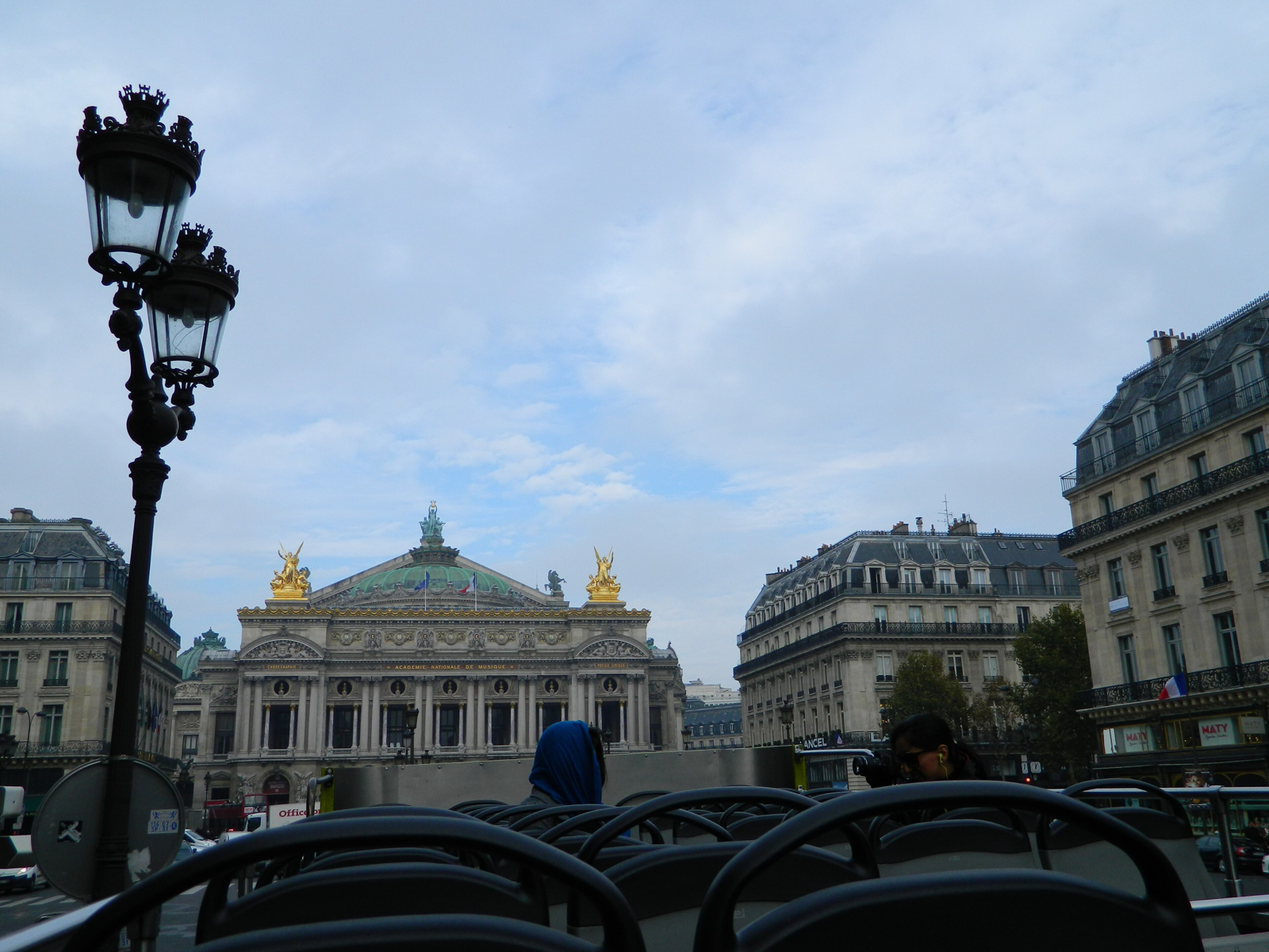fachada: (209, 444, 701, 780), (738, 508, 1081, 751), (1084, 328, 1269, 775), (0, 489, 196, 756)
poste: (66, 79, 233, 889)
